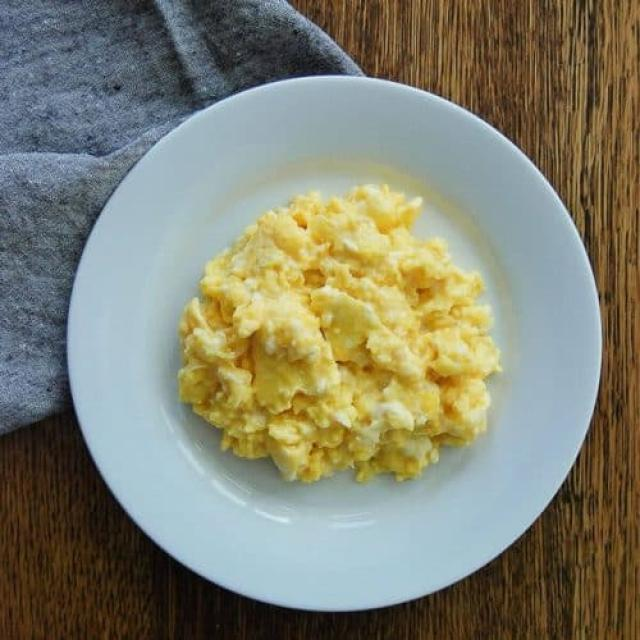eggs: (182, 193, 514, 457)
